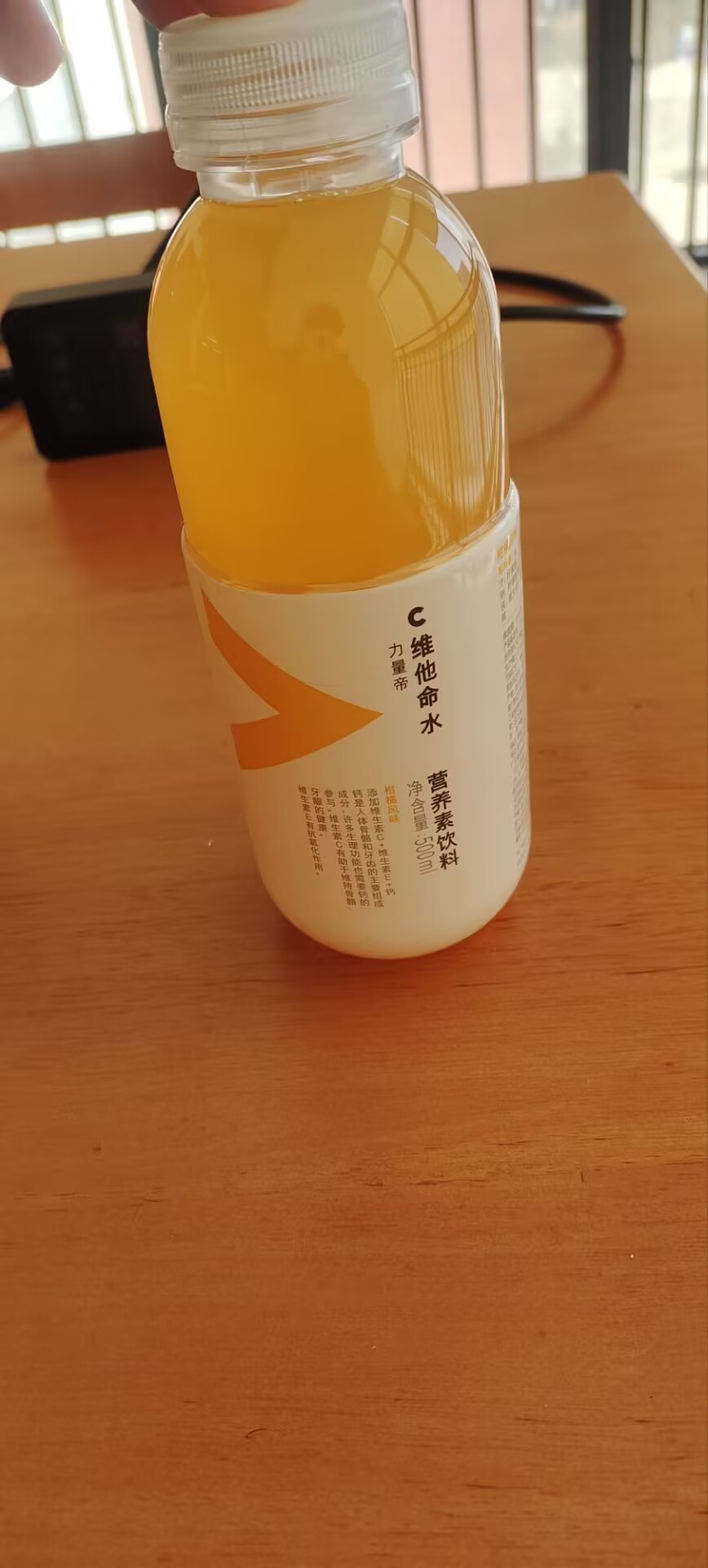redbull: (158, 11, 560, 955)
